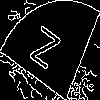Z: (25, 25, 61, 81)
